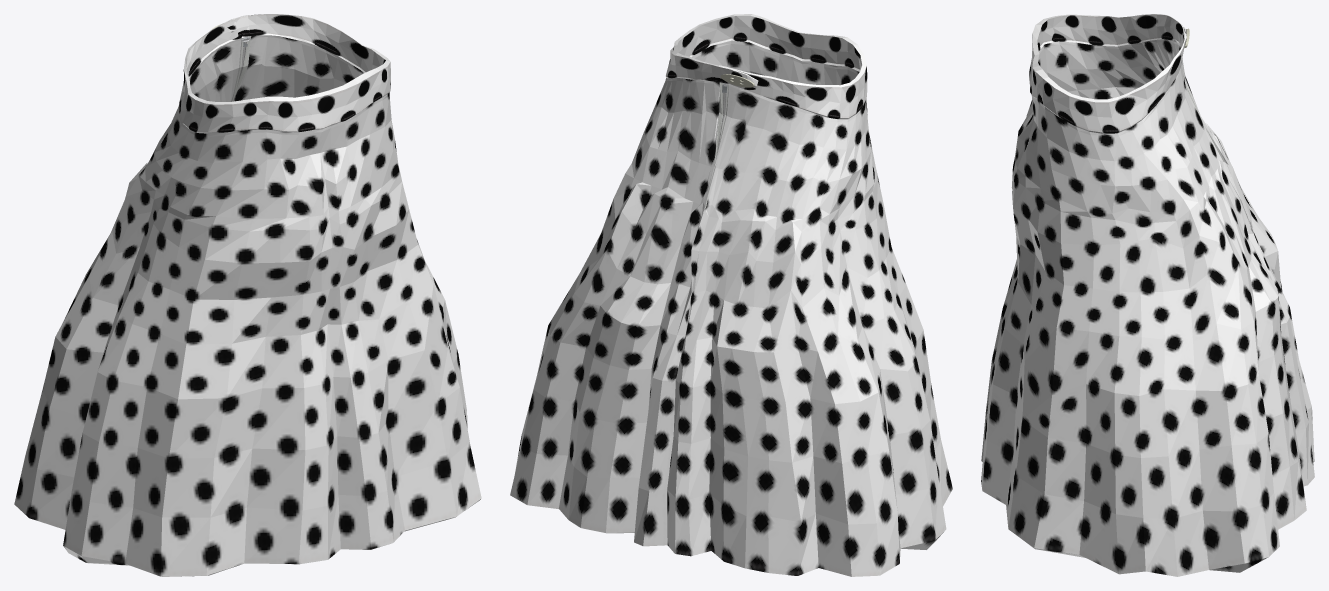
File: mhw_punkduck_retro_polka_dot_skirt.glb
3 views of the same model, side by side, from view 1: azimuth 30°, elevation 25°; view 2: azimuth 150°, elevation 25°; view 3: azimuth 270°, elevation 25° (orthographic). The views are drawn at different scales.
Parts seen in each view (by area): view 1: mhw_punkduck_retro_polka_dot_skirt; view 2: mhw_punkduck_retro_polka_dot_skirt; view 3: mhw_punkduck_retro_polka_dot_skirt.
Boxes of the visible parts, <box> form: mhw_punkduck_retro_polka_dot_skirt: <box>14,14,481,576</box>; mhw_punkduck_retro_polka_dot_skirt: <box>510,14,952,576</box>; mhw_punkduck_retro_polka_dot_skirt: <box>981,14,1314,576</box>.
Bounding box in the file's own units: 0.6558 × 0.7322 × 0.4901.
1 material, 1 textured.
